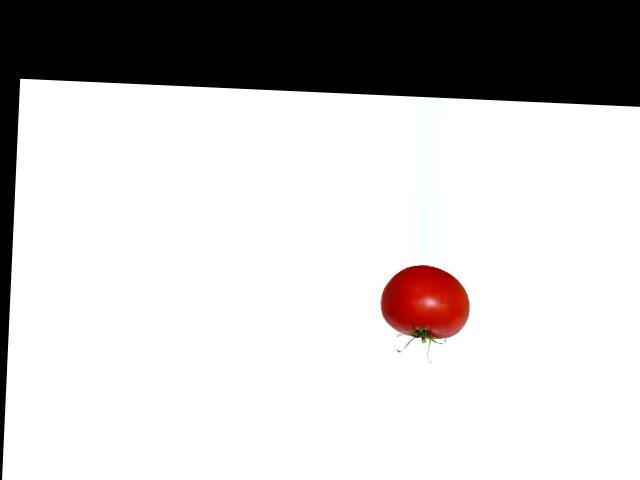tomato: (380, 263, 470, 340)
